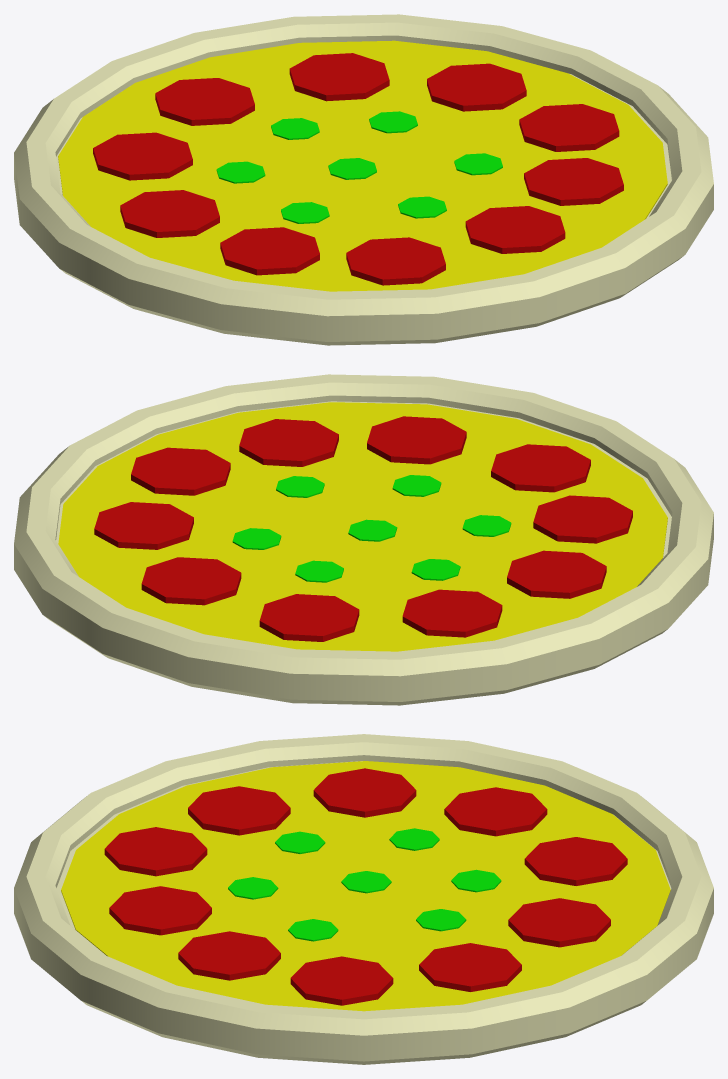
File: guncel_2.evre_pizza.fbx
3 views of the same model, one above another, from view 1: azimuth 30°, elevation 25°; view 2: azimuth 150°, elevation 25°; view 3: azimuth 270°, elevation 25° (orthographic).
Visible parts, largest first — view 1: pCylinder8, pCylinder3, pCylinder12, pCylinder16, pCylinder15, pCylinder14, pCylinder4, pCylinder9, pCylinder13, pCylinder17, pCylinder10, pCylinder11 (+7 smaller); view 2: pCylinder8, pCylinder3, pCylinder16, pCylinder17, pCylinder15, pCylinder14, pCylinder4, pCylinder12, pCylinder9, pCylinder13, pCylinder10, pCylinder11 (+7 smaller); view 3: pCylinder8, pCylinder3, pCylinder14, pCylinder17, pCylinder13, pCylinder4, pCylinder15, pCylinder12, pCylinder16, pCylinder9, pCylinder10, pCylinder11 (+7 smaller).
Boxes of the visible parts, x1,y1,x2,y2 form: pCylinder8: (58,40,667,291); pCylinder3: (14,14,713,345); pCylinder12: (519,104,619,151); pCylinder16: (289,53,389,101); pCylinder15: (465,206,565,253); pCylinder14: (346,237,445,285); pCylinder4: (220,227,319,275); pCylinder9: (120,190,219,237); pCylinder13: (524,158,623,205); pCylinder17: (155,78,254,125); pCylinder10: (93,132,192,180); pCylinder11: (427,63,526,111); pCylinder8: (58,402,667,651); pCylinder3: (14,374,713,705); pCylinder16: (141,557,241,605); pCylinder17: (259,594,359,641); pCylinder15: (367,416,466,464); pCylinder14: (491,444,590,492); pCylinder4: (533,495,632,543); pCylinder12: (131,447,230,495); pCylinder9: (507,550,606,598); pCylinder13: (239,419,338,466); pCylinder10: (402,589,502,637); pCylinder11: (94,502,193,549); pCylinder8: (61,761,670,1011); pCylinder3: (14,734,713,1064); pCylinder14: (104,827,207,876); pCylinder17: (524,837,627,885); pCylinder13: (178,931,280,980); pCylinder4: (188,786,290,835); pCylinder15: (109,886,211,935); pCylinder12: (290,956,393,1005); pCylinder16: (508,898,610,947); pCylinder9: (313,768,416,817); pCylinder10: (444,787,547,836); pCylinder11: (419,943,521,991).
Size of the model in its own units: 6.07 by 0.4146 by 6.07.
